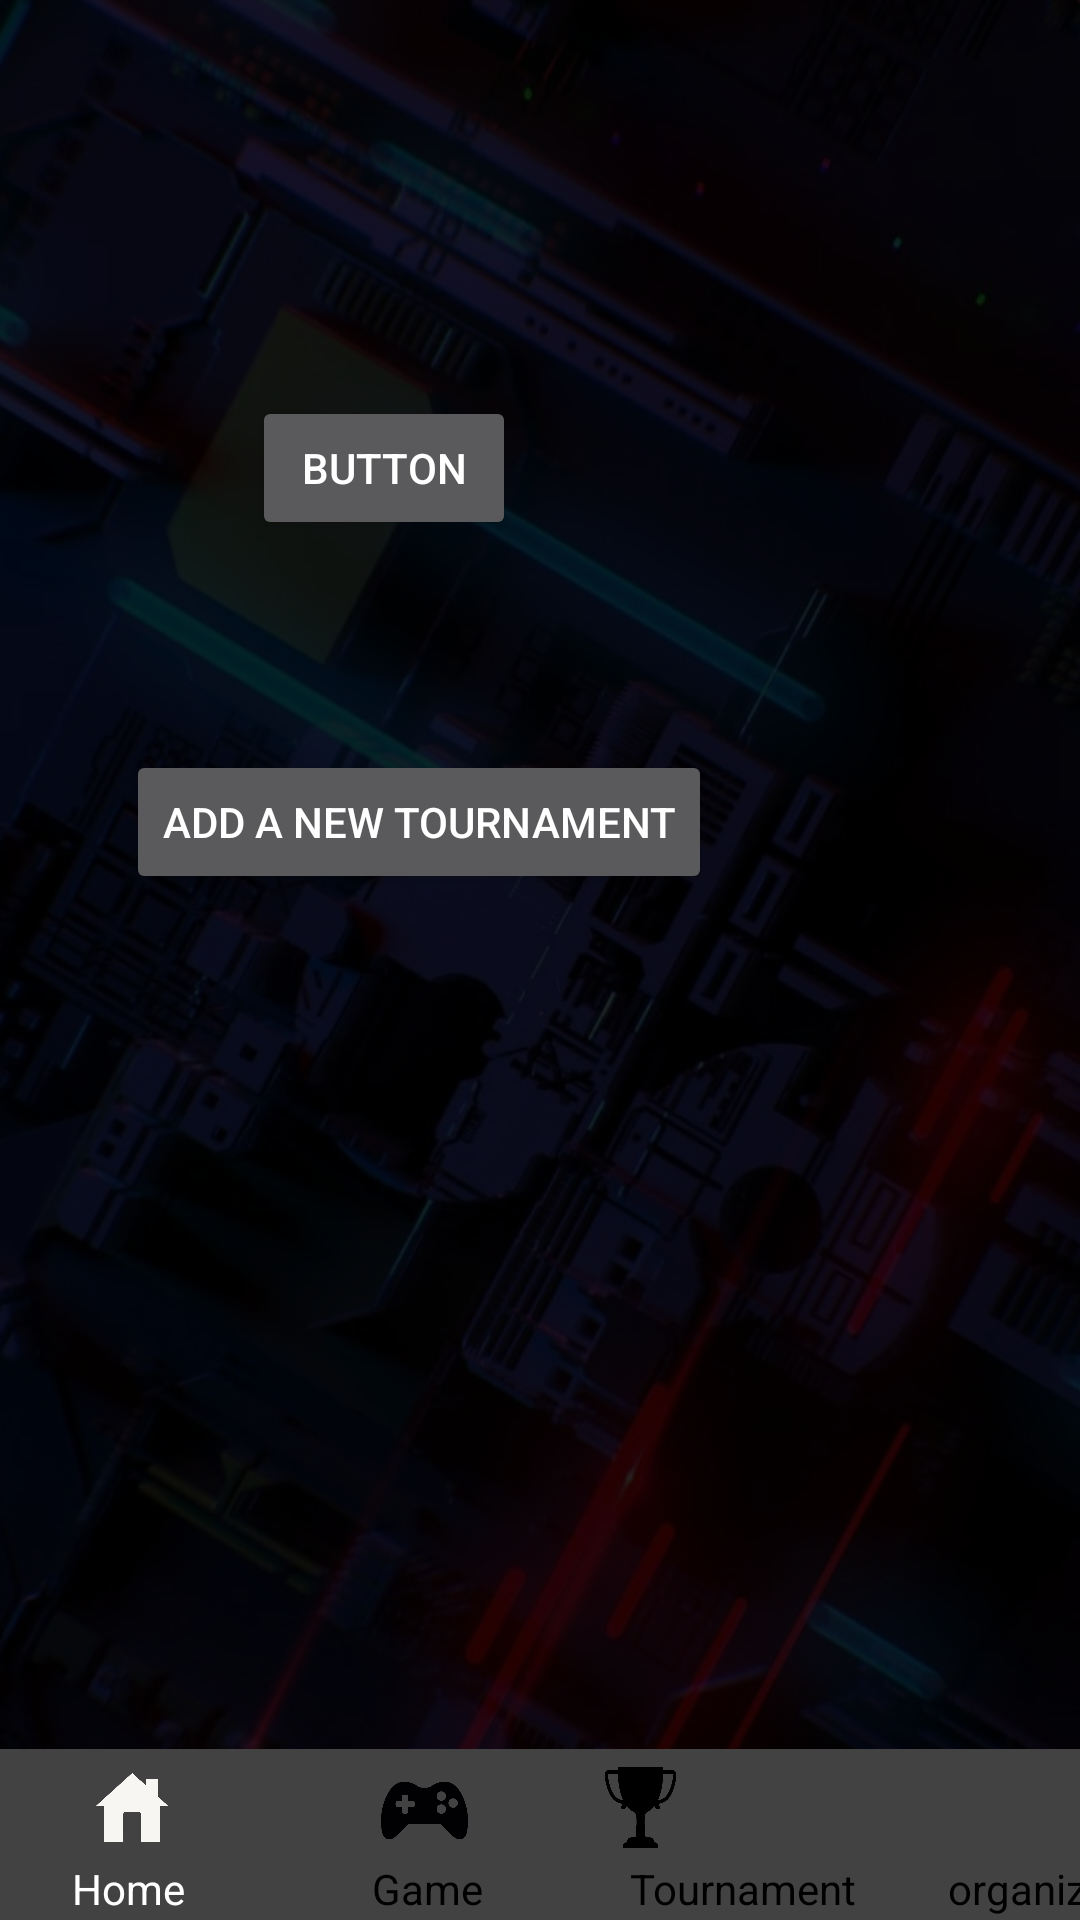

Where icons sit on this 1080px x 1920px app screen, as (x1, y1, x2, y2):
console: (381, 1782, 468, 1839)
cup: (605, 1767, 676, 1848)
